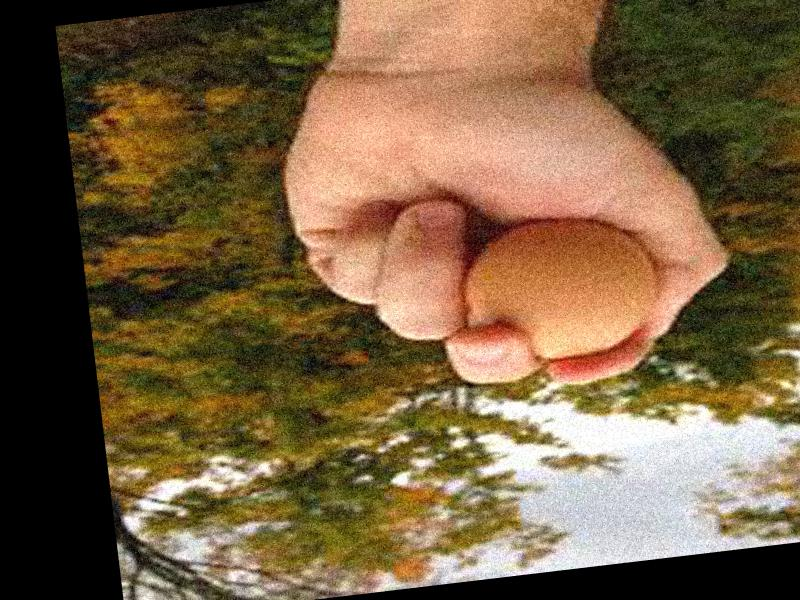Eggs: (449, 209, 661, 369)
